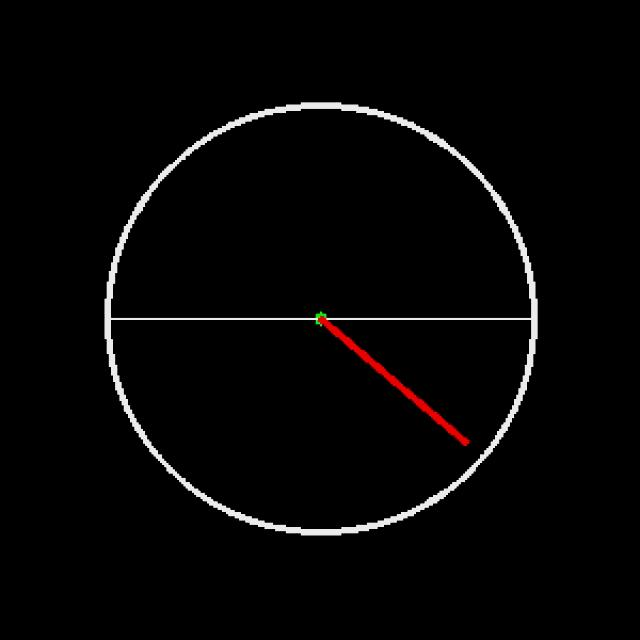Needle_Tip: (440, 414, 482, 461)
Needle_base: (285, 281, 358, 343)
